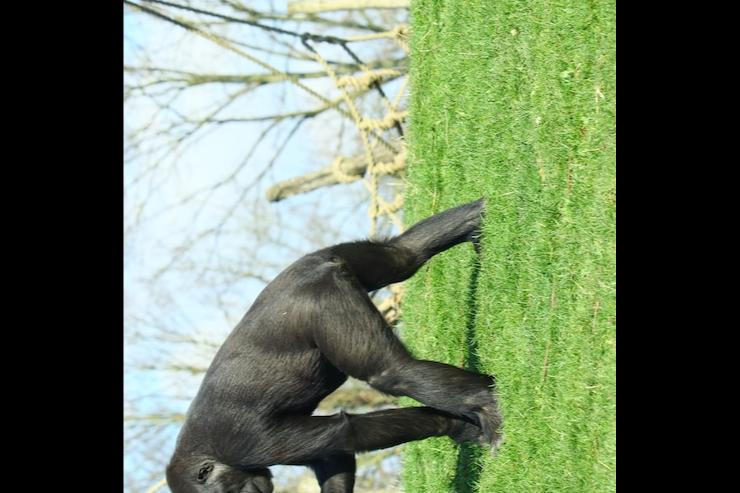gorille_Autres: (145, 147, 526, 493)
